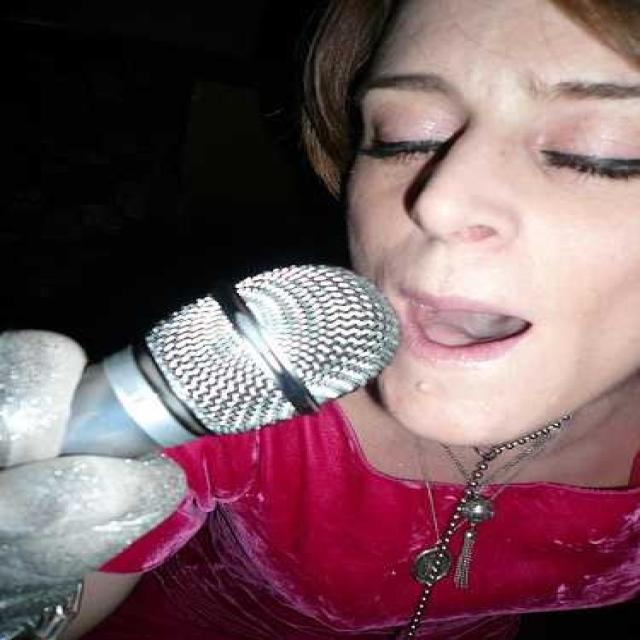microphone: (12, 262, 398, 476)
